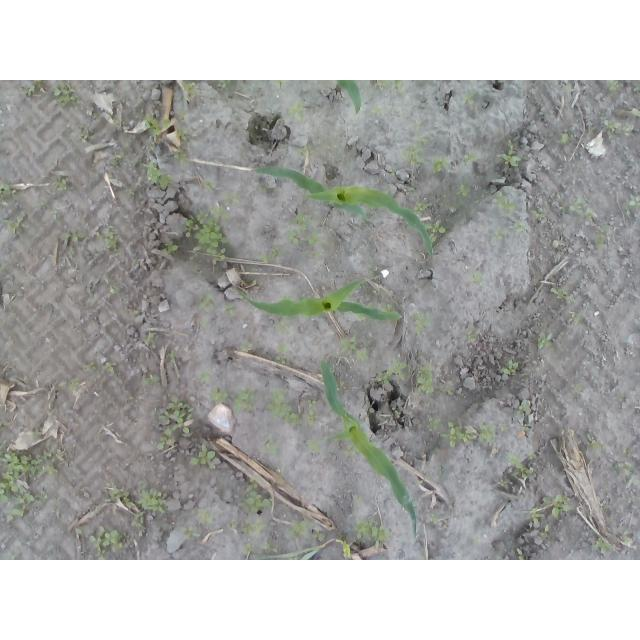Maize: (318, 356, 419, 541), (257, 167, 436, 259), (236, 277, 401, 320), (334, 80, 363, 116)
Weeds: (0, 448, 58, 522), (182, 194, 241, 266), (108, 483, 168, 529), (270, 384, 319, 427), (240, 478, 274, 535), (158, 399, 194, 450), (495, 188, 529, 239), (530, 495, 570, 538), (439, 420, 497, 448), (288, 210, 320, 258), (87, 525, 129, 560), (352, 519, 393, 546), (501, 449, 536, 480), (332, 337, 369, 364), (376, 355, 409, 385), (400, 136, 430, 168), (94, 223, 121, 257), (598, 112, 634, 137), (287, 519, 326, 542), (145, 159, 173, 190), (188, 445, 221, 471), (494, 139, 521, 169), (231, 384, 257, 415), (559, 197, 593, 220), (52, 80, 81, 106), (137, 112, 163, 137), (415, 366, 436, 395), (372, 80, 406, 97), (78, 360, 114, 376), (190, 504, 214, 528), (426, 221, 448, 247), (260, 435, 285, 457), (5, 213, 28, 236), (20, 80, 48, 98), (78, 122, 99, 146), (550, 287, 576, 305), (415, 309, 433, 335), (454, 178, 472, 203), (0, 182, 18, 206), (256, 247, 280, 265), (464, 80, 481, 105), (206, 388, 231, 405), (591, 537, 617, 553), (287, 98, 305, 121), (110, 145, 128, 168), (271, 343, 289, 365), (183, 80, 201, 102), (500, 358, 520, 377), (595, 224, 610, 249), (537, 332, 556, 351), (431, 155, 449, 175), (423, 414, 441, 434), (52, 175, 72, 193), (197, 294, 217, 311), (296, 144, 321, 157), (183, 526, 202, 543), (463, 151, 481, 168), (586, 433, 604, 450), (304, 438, 322, 455), (175, 127, 193, 143), (62, 227, 82, 241), (608, 463, 633, 474), (142, 374, 163, 387), (163, 240, 179, 257), (438, 383, 457, 397), (271, 321, 290, 335), (414, 200, 434, 213), (606, 80, 622, 96), (530, 207, 547, 222), (568, 313, 585, 328), (463, 327, 480, 342), (213, 81, 236, 92), (367, 254, 377, 279), (369, 106, 387, 119), (202, 179, 217, 194), (515, 403, 529, 418), (255, 183, 274, 194), (366, 175, 386, 185), (471, 270, 482, 288), (343, 542, 354, 560), (239, 83, 257, 94), (197, 370, 212, 383), (174, 151, 191, 162), (629, 192, 640, 209), (239, 342, 253, 355), (242, 542, 256, 555), (341, 444, 355, 457), (271, 80, 289, 90), (352, 215, 368, 226), (112, 117, 129, 127), (560, 132, 573, 145), (404, 181, 416, 195), (429, 513, 441, 526), (164, 350, 176, 363), (128, 188, 139, 201), (143, 335, 157, 345), (259, 541, 273, 551), (629, 108, 640, 120), (498, 479, 510, 490), (335, 380, 345, 393), (223, 304, 233, 317), (515, 548, 525, 561), (1, 255, 8, 273), (128, 309, 140, 319), (366, 287, 378, 297), (176, 111, 188, 121), (226, 519, 238, 529), (69, 378, 82, 387), (354, 495, 365, 505), (163, 119, 173, 130), (471, 535, 481, 546), (392, 407, 401, 418), (5, 552, 16, 561), (110, 287, 121, 296), (149, 141, 157, 153), (632, 80, 640, 92), (200, 318, 209, 328), (239, 292, 249, 301), (574, 152, 583, 161), (1, 419, 8, 430), (458, 393, 467, 401), (623, 539, 630, 545), (67, 250, 73, 255)
